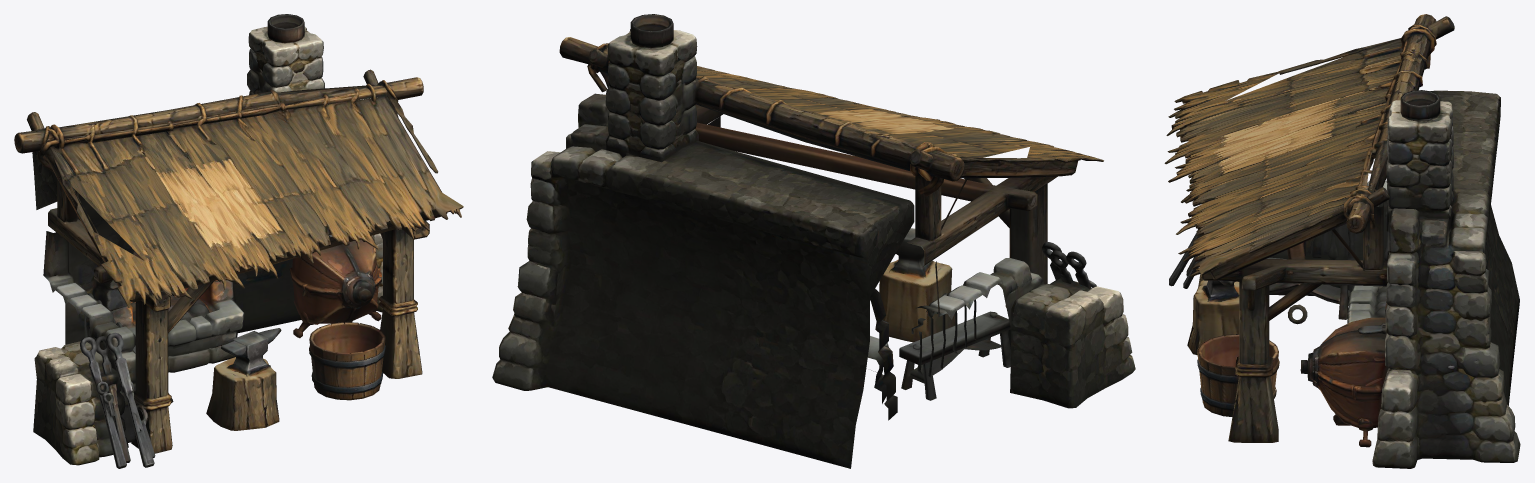
Rendered from act1-a15-2-forge.glb.
3 renders of one model, left to right at view 1: azimuth 30°, elevation 25°; view 2: azimuth 150°, elevation 25°; view 3: azimuth 270°, elevation 25°, orthographic. The views are drawn at different scales.
Parts seen in each view (by area): view 1: act1-a15-2-forge; view 2: act1-a15-2-forge; view 3: act1-a15-2-forge.
Part boxes in pixels (box(x1,y1,x2,y2)): act1-a15-2-forge: box(14, 14, 463, 468); act1-a15-2-forge: box(492, 14, 1135, 468); act1-a15-2-forge: box(1164, 14, 1520, 468).
Size of the model in its own units: 6 by 4.05 by 4.1.
Materials: 1 (1 with a texture image).
